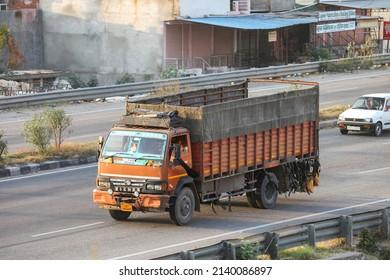car: (335, 92, 390, 136)
truck: (95, 74, 321, 226)
